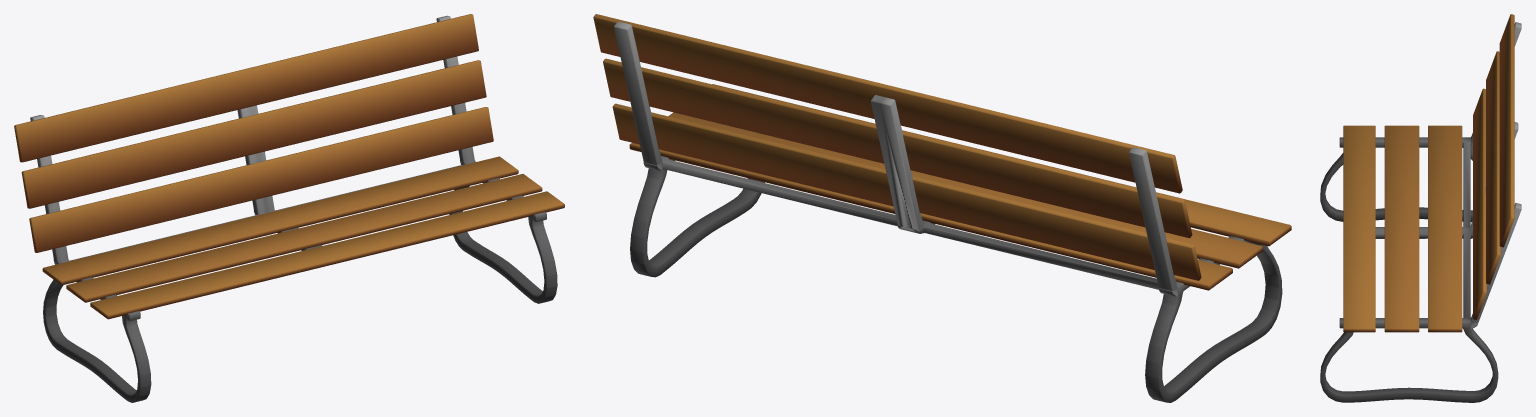
The model's file is SM_Banco.fbx.
3 views of the same model, side by side, from view 1: azimuth 30°, elevation 25°; view 2: azimuth 150°, elevation 25°; view 3: azimuth 270°, elevation 25° (orthographic). The views are drawn at different scales.
Parts seen in each view (by area): view 1: Banco; view 2: Banco; view 3: Banco.
Boxes of the visible parts, box(x1,y1,x2,y2) form: Banco: box(14, 14, 564, 402); Banco: box(593, 14, 1291, 402); Banco: box(1320, 14, 1521, 402).
Bounding box in the file's own units: 252 × 113 × 105.
